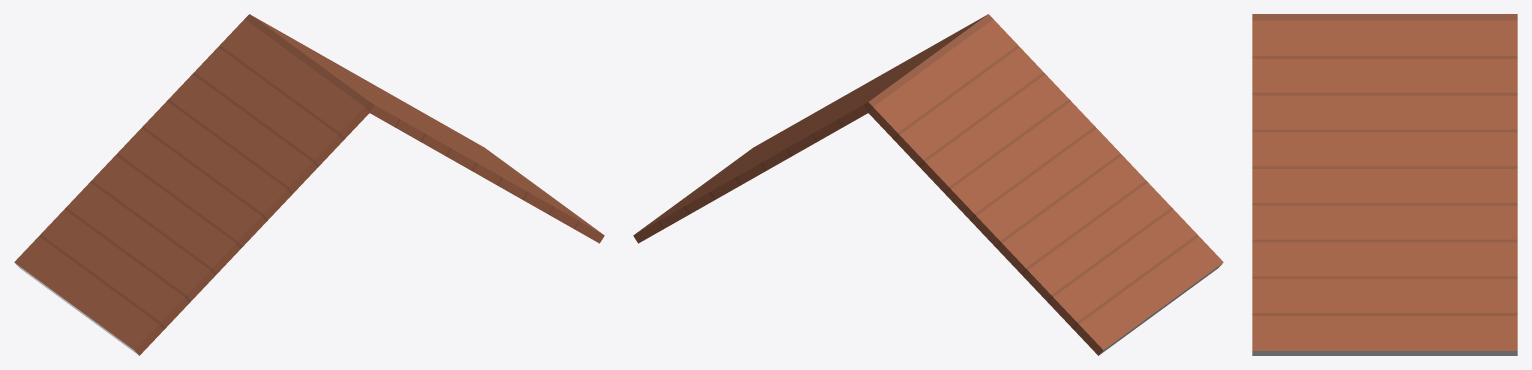
Rendered from Roof1_C5_01.fbx.
3 views of the same model, side by side, from view 1: azimuth 30°, elevation 25°; view 2: azimuth 150°, elevation 25°; view 3: azimuth 270°, elevation 25° (orthographic). The views are drawn at different scales.
Visible parts, largest first — view 1: Roof1_C5_01; view 2: Roof1_C5_01; view 3: Roof1_C5_01.
Boxes of the visible parts, x1,y1,x2,y2 form: Roof1_C5_01: (14,14,604,355); Roof1_C5_01: (633,14,1223,355); Roof1_C5_01: (1252,14,1517,355).
Size of the model in its own units: 565 by 227 by 250.
